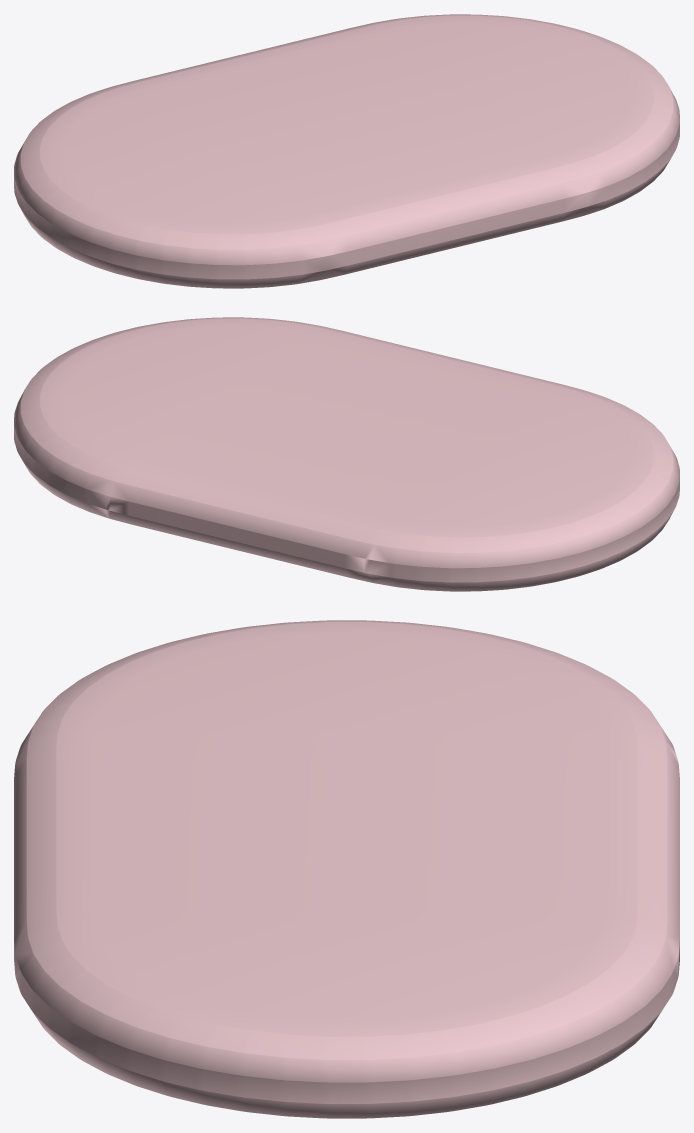
The model's file is Smooth.gltf.
The picture shows the model from 3 angles, top to bottom: view 1: azimuth 30°, elevation 25°; view 2: azimuth 150°, elevation 25°; view 3: azimuth 270°, elevation 25°; orthographic projection. The views are drawn at different scales.
Parts seen in each view (by area): view 1: Torus.001; view 2: Torus.001; view 3: Torus.001.
Part boxes in pixels (<box>): Torus.001: <box>14,14,679,288</box>; Torus.001: <box>14,317,679,591</box>; Torus.001: <box>14,620,679,1118</box>.
Bounding box in the file's own units: 3.97 × 0.3553 × 2.5.
